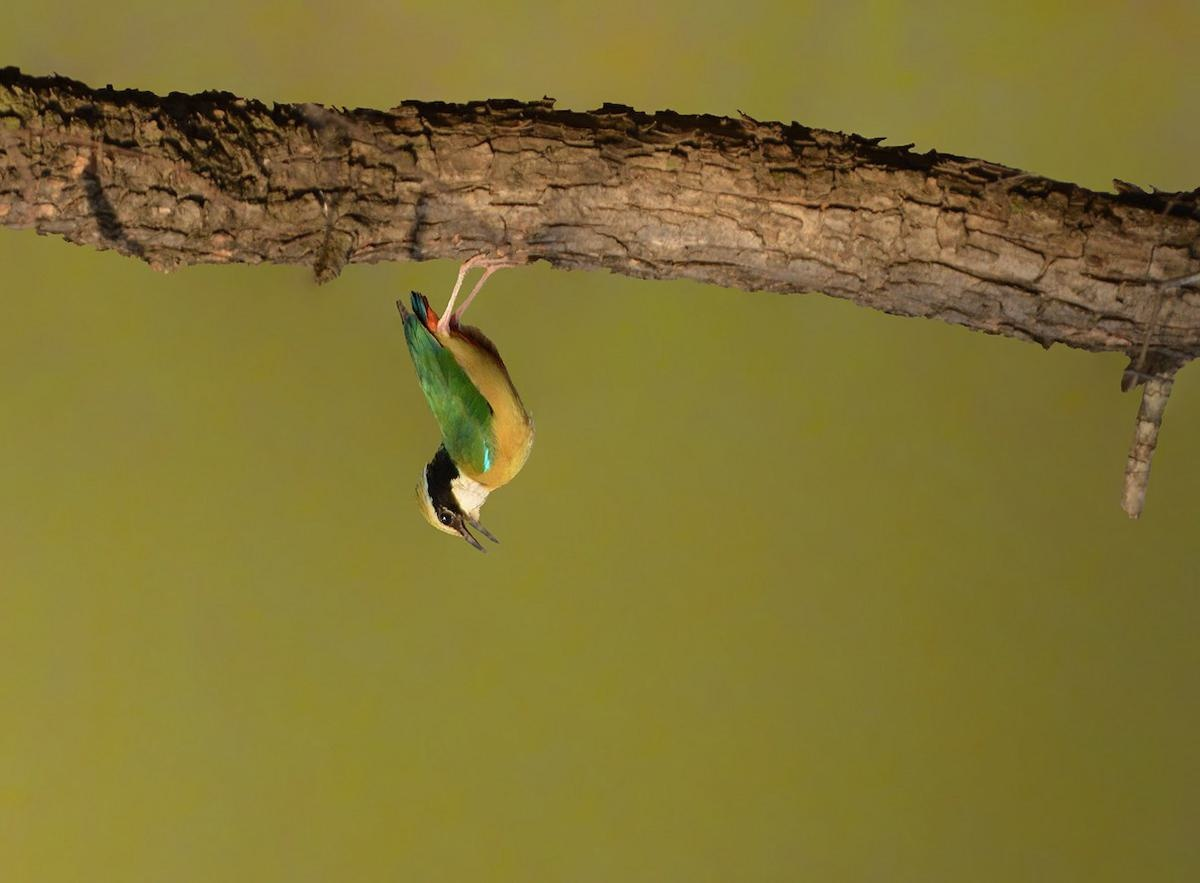pitta: (380, 212, 580, 562)
